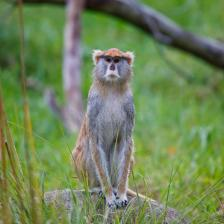monkey: (72, 44, 146, 214)
